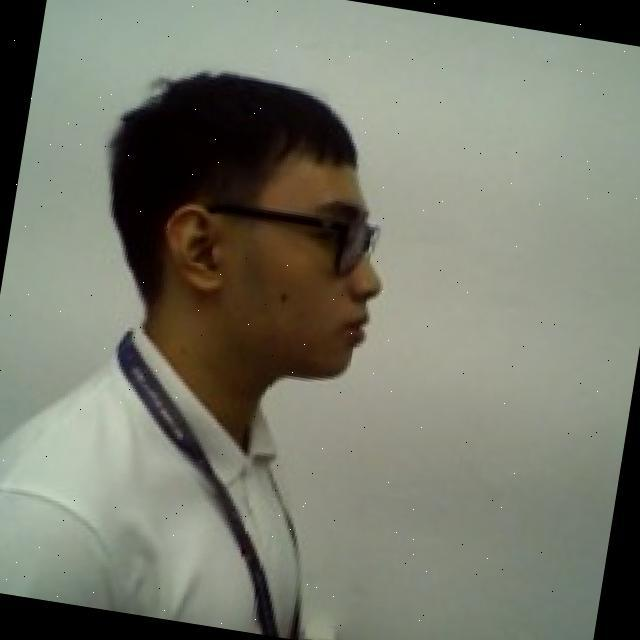no_gloves: (95, 48, 394, 236)
no_hairnet: (140, 196, 396, 400)
